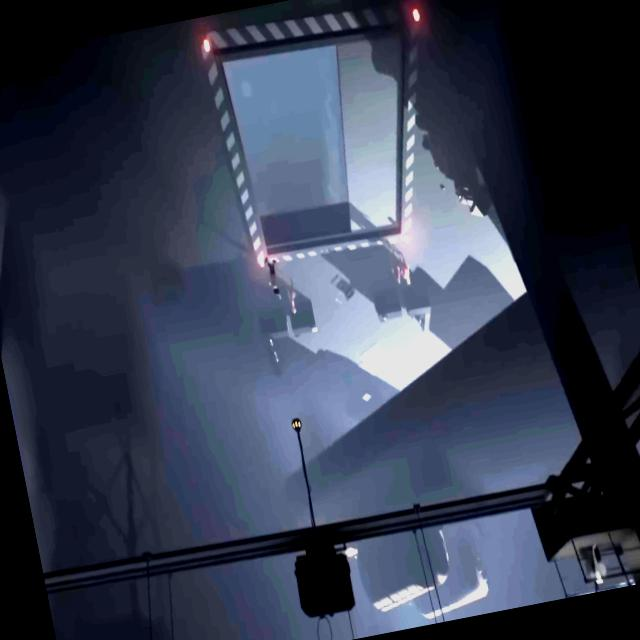boy: (264, 256, 284, 301)
